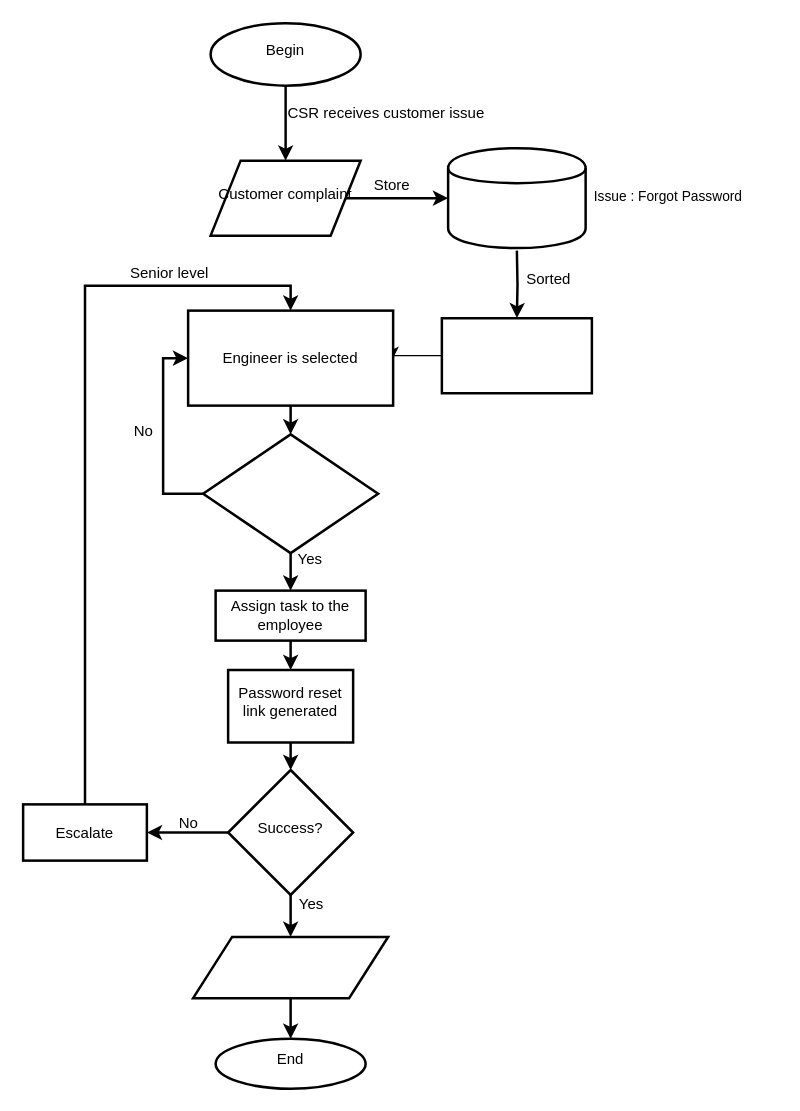
Image size: 800x1111. Some labels were removed from this diagram. The box of each missing label's shape, as (x1, y1, x2, y2) in pixels:
Customer isssue log: (446, 146, 586, 249)
Is the employee fit for the job?: (201, 432, 379, 554)
Issue sorted as Forgot Password: (440, 316, 592, 394)
Reset link sent to the customer: (191, 935, 389, 999)
